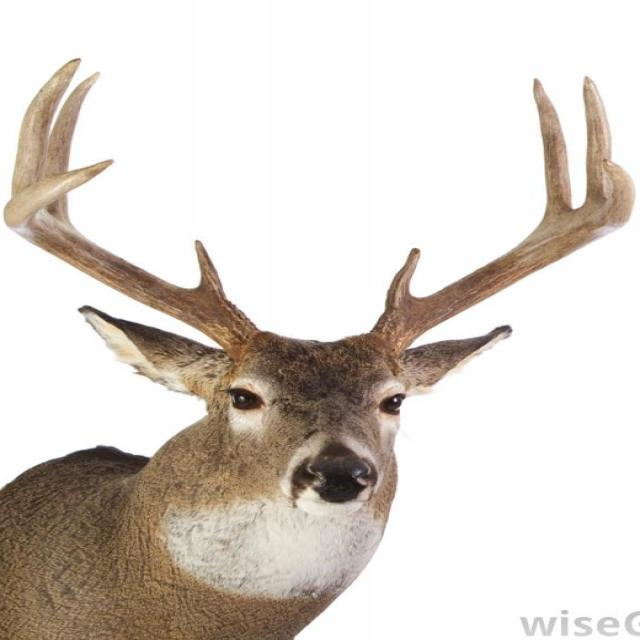L-F: (362, 158, 635, 365)
L-G1: (385, 247, 422, 314)
L-G2: (533, 78, 574, 223)
R-F: (3, 157, 263, 362)
R-G1: (194, 239, 227, 298)
